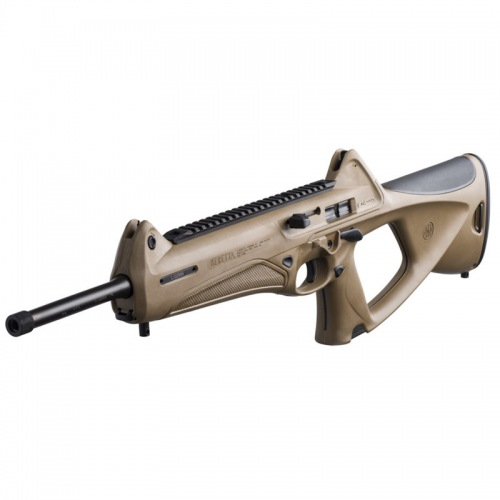weapon: (7, 149, 495, 345)
